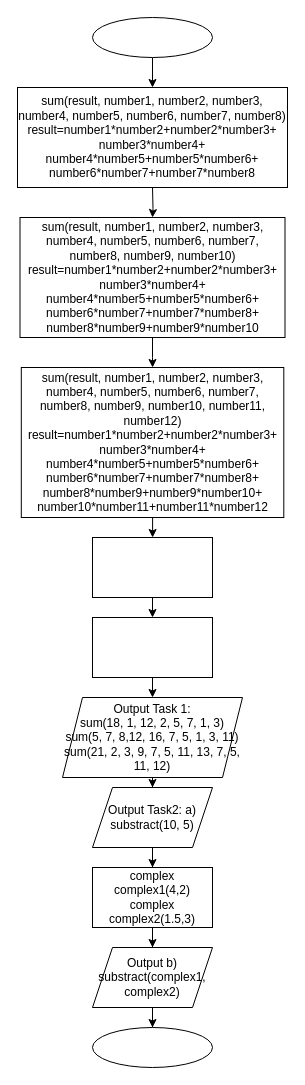
Image size: 305x1085. Some labels were removed from this diagram. The centre of each missing label's shape, as x and y in pixels:
Beginning: [152,37]
complex substract(a,b)=a-b: [152,647]
End: [152,1047]
substract(a,b)=a-b: [152,567]
